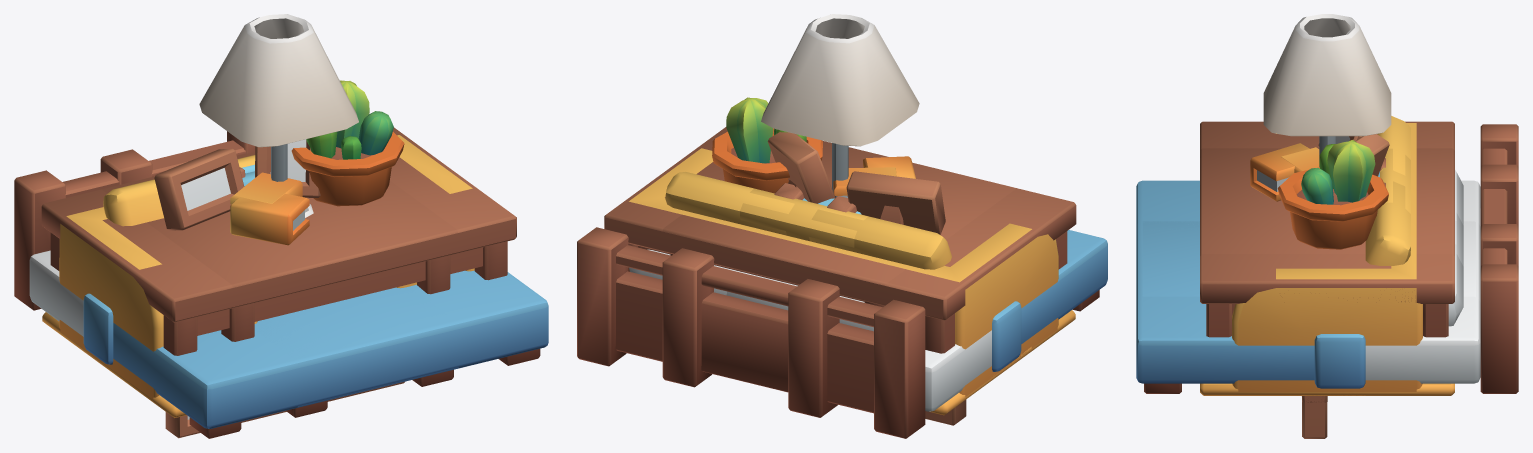
Rendered from furniture.glb.
3 views of the same model, side by side, from view 1: azimuth 30°, elevation 25°; view 2: azimuth 150°, elevation 25°; view 3: azimuth 270°, elevation 25° (orthographic). The views are drawn at different scales.
Visible parts, largest first — view 1: bed_double_A, table_medium_long, table_medium, lamp_standing, cabinet_medium_decorated, couch_pillows, bed_single_A, cabinet_small_decorated, rug_rectangle_A, pictureframe_large_B; view 2: bed_double_A, bed_single_A, couch_pillows, table_medium_long, lamp_standing, cabinet_medium_decorated, table_medium, cabinet_small_decorated, armchair_pillows, rug_rectangle_A, chair_A, pictureframe_large_B; view 3: bed_double_A, couch_pillows, table_medium_long, lamp_standing, table_medium, bed_single_A, cabinet_medium_decorated, cabinet_small_decorated, rug_rectangle_A, pictureframe_large_B, armchair_pillows.
Boxes of the visible parts, x1,y1,x2,y2 form: bed_double_A: (14, 148, 548, 438); table_medium_long: (41, 127, 516, 355); table_medium: (102, 152, 457, 341); lamp_standing: (199, 14, 358, 181); cabinet_medium_decorated: (154, 80, 404, 230); couch_pillows: (59, 135, 474, 399); bed_single_A: (100, 131, 458, 417); cabinet_small_decorated: (230, 139, 320, 245); rug_rectangle_A: (42, 312, 186, 417); pictureframe_large_B: (165, 381, 404, 438); bed_double_A: (577, 227, 1107, 438); bed_single_A: (662, 248, 839, 417); couch_pillows: (629, 148, 1058, 396); table_medium_long: (604, 127, 1076, 353); lamp_standing: (761, 14, 919, 197); cabinet_medium_decorated: (712, 97, 945, 234); table_medium: (663, 140, 1016, 307); cabinet_small_decorated: (767, 132, 915, 203); armchair_pillows: (740, 188, 868, 247); rug_rectangle_A: (929, 310, 1075, 415); chair_A: (774, 183, 856, 212); pictureframe_large_B: (925, 399, 966, 425); bed_double_A: (1136, 124, 1518, 393); couch_pillows: (1232, 116, 1422, 391); table_medium_long: (1200, 121, 1454, 337); lamp_standing: (1263, 14, 1391, 166); table_medium: (1200, 148, 1454, 255); bed_single_A: (1137, 164, 1518, 302); cabinet_medium_decorated: (1277, 136, 1388, 249); cabinet_small_decorated: (1250, 134, 1389, 201); rug_rectangle_A: (1200, 383, 1454, 395); pictureframe_large_B: (1302, 396, 1327, 438); armchair_pillows: (1380, 148, 1410, 213).
Size of the model in its own units: 3.1 by 3.12 by 3.
1 material, 1 textured.
